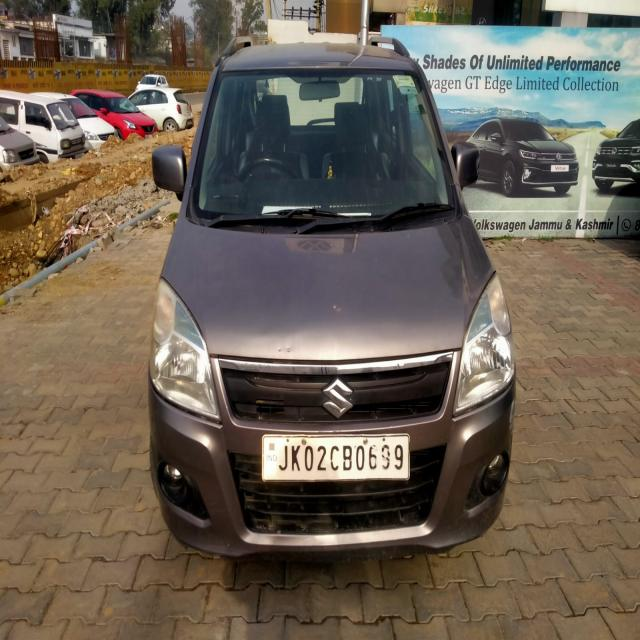plate: (258, 422, 416, 490)
